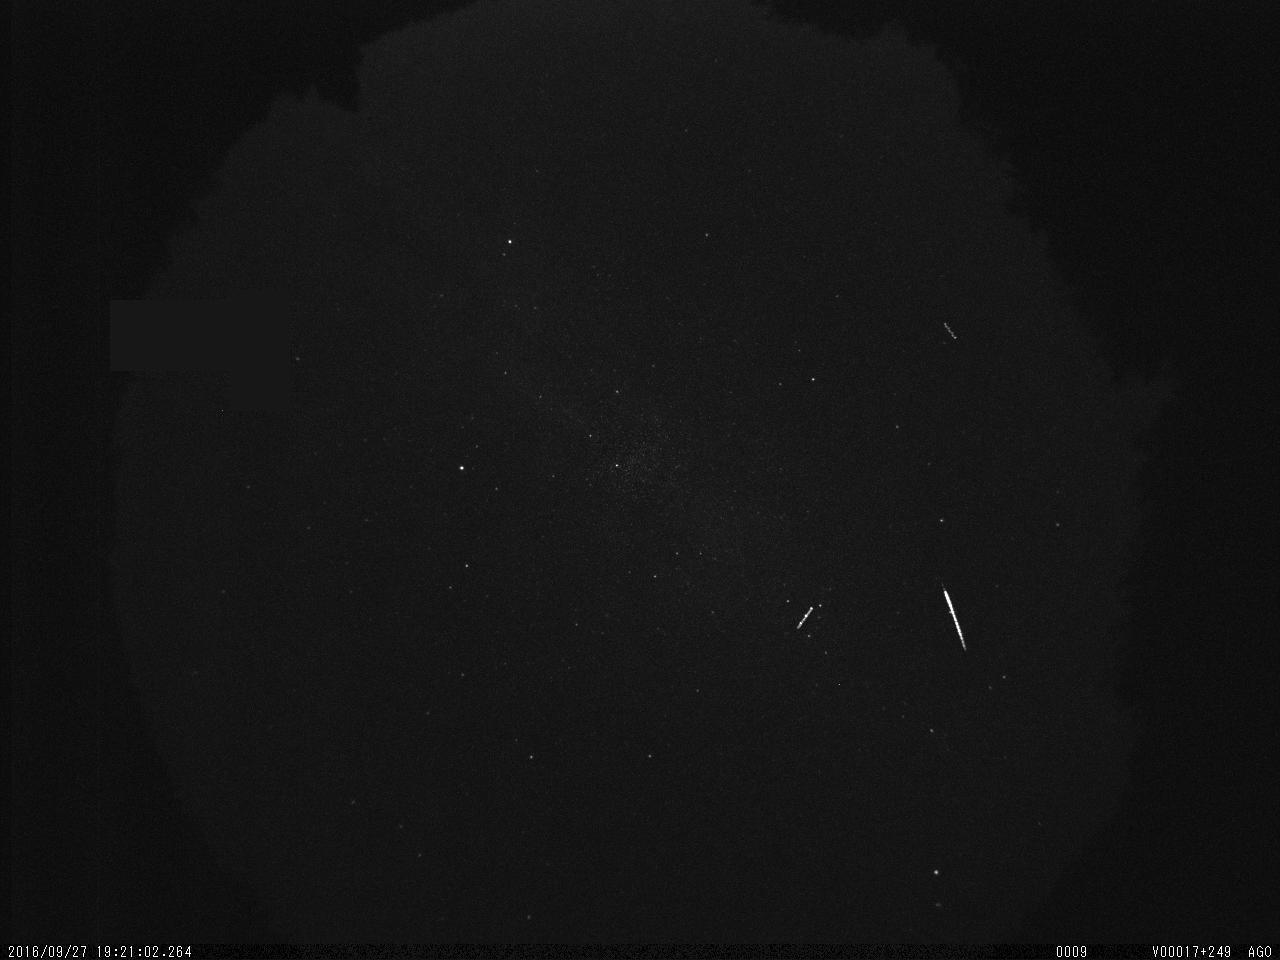meteor: (934, 578, 978, 660)
satelite: (937, 313, 965, 349), (792, 599, 818, 636)
